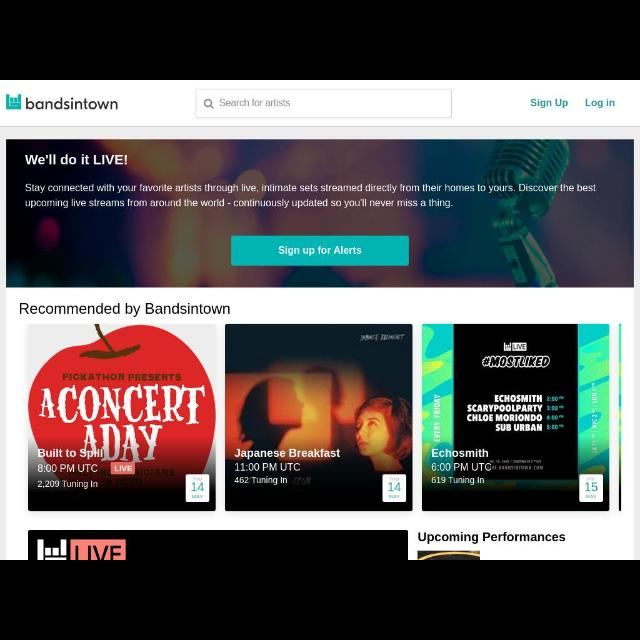backgroundimage: (6, 138, 632, 288)
icon: (203, 98, 214, 110)
image: (226, 324, 412, 512), (28, 325, 214, 511), (423, 325, 609, 511), (29, 530, 407, 558), (6, 92, 120, 114), (417, 551, 479, 559)
input: (195, 89, 452, 119)
text: (26, 184, 596, 210), (20, 300, 232, 318), (26, 152, 130, 168), (417, 532, 567, 542), (278, 245, 362, 258), (219, 98, 291, 109), (532, 96, 568, 110), (584, 98, 616, 109)
textbutton: (232, 236, 408, 266)
toolbar: (1, 80, 639, 128)
